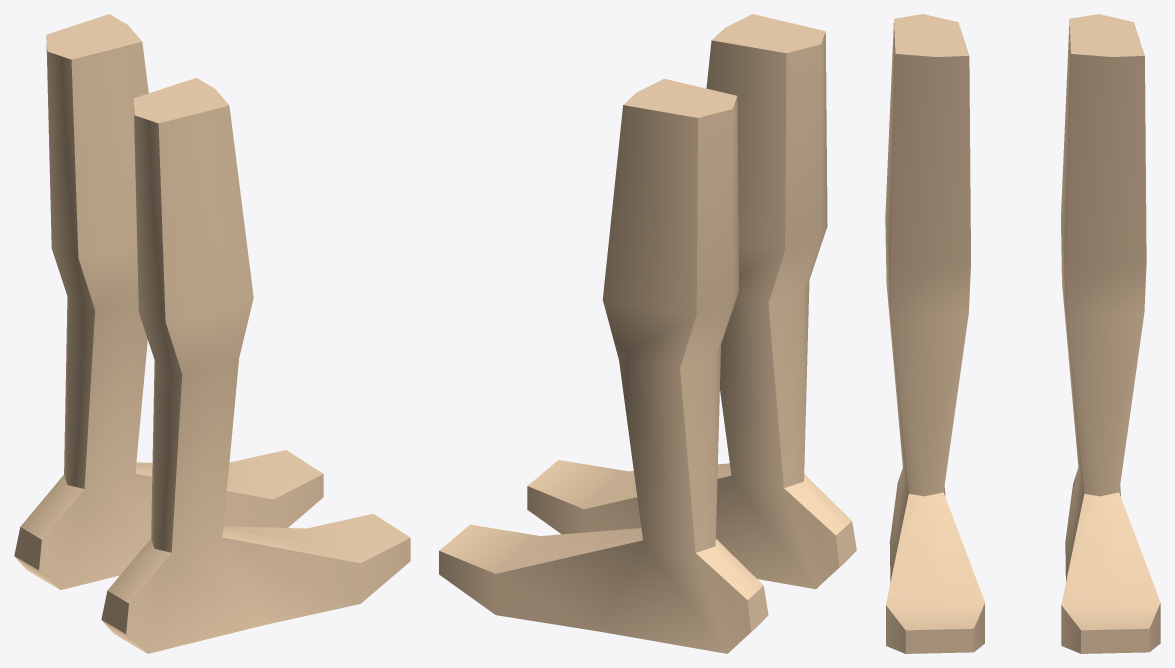
File: Legs.fbx
3 renders of one model, left to right at view 1: azimuth 30°, elevation 25°; view 2: azimuth 150°, elevation 25°; view 3: azimuth 270°, elevation 25°, orthographic.
Parts seen in each view (by area): view 1: legs:leg1, legs:leg; view 2: legs:leg, legs:leg1; view 3: legs:leg, legs:leg1.
Part boxes in pixels (x1,y1,x2,y2): legs:leg1: [101, 78, 410, 653]; legs:leg: [14, 14, 323, 589]; legs:leg: [439, 78, 768, 653]; legs:leg1: [527, 14, 856, 589]; legs:leg: [1061, 14, 1160, 653]; legs:leg1: [885, 14, 984, 653].
Size of the model in its own units: 5.26 by 9.02 by 4.25.
